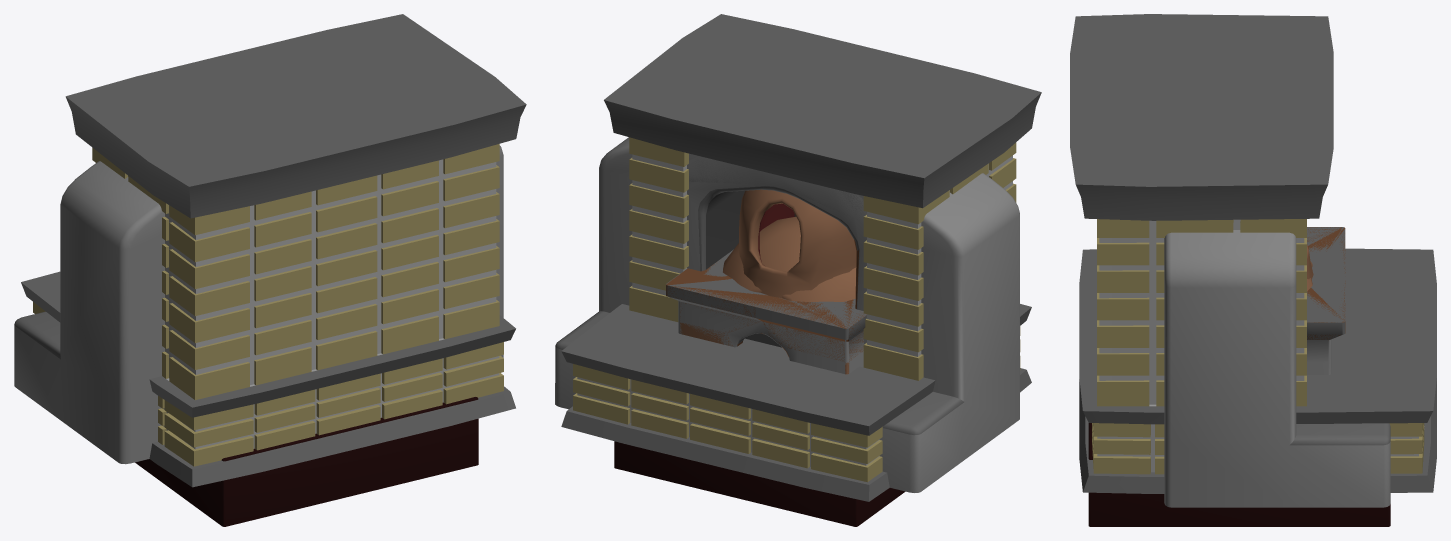
File: HearthOven.fbx
3 renders of one model, left to right at view 1: azimuth 30°, elevation 25°; view 2: azimuth 150°, elevation 25°; view 3: azimuth 270°, elevation 25°, orthographic. The views are drawn at different scales.
Parts seen in each view (by area): view 1: Hearth01A, Hearth04A, Irori01; view 2: Hearth01A, Hearth04A, HearthOven02A, HearthOven01, Hearth03A, Irori01, EarthenOven01; view 3: Hearth01A, Hearth04A, Irori01, HearthOven01, HearthOven02A.
Part boxes in pixels (x1,y1,x2,y2): Hearth01A: [21, 14, 526, 487]; Hearth04A: [14, 145, 503, 464]; Irori01: [135, 397, 478, 526]; Hearth01A: [561, 14, 1041, 501]; Hearth04A: [555, 137, 1019, 492]; HearthOven02A: [666, 189, 866, 374]; HearthOven01: [666, 249, 866, 373]; Hearth03A: [687, 156, 866, 344]; Irori01: [614, 441, 905, 526]; EarthenOven01: [723, 216, 856, 301]; Hearth01A: [1070, 14, 1436, 493]; Hearth04A: [1164, 230, 1390, 507]; Irori01: [1088, 423, 1390, 526]; HearthOven01: [1307, 227, 1345, 374]; HearthOven02A: [1307, 227, 1345, 340].
Size of what is drawn, in the model's own units: 1.83 by 1.61 by 1.48.
